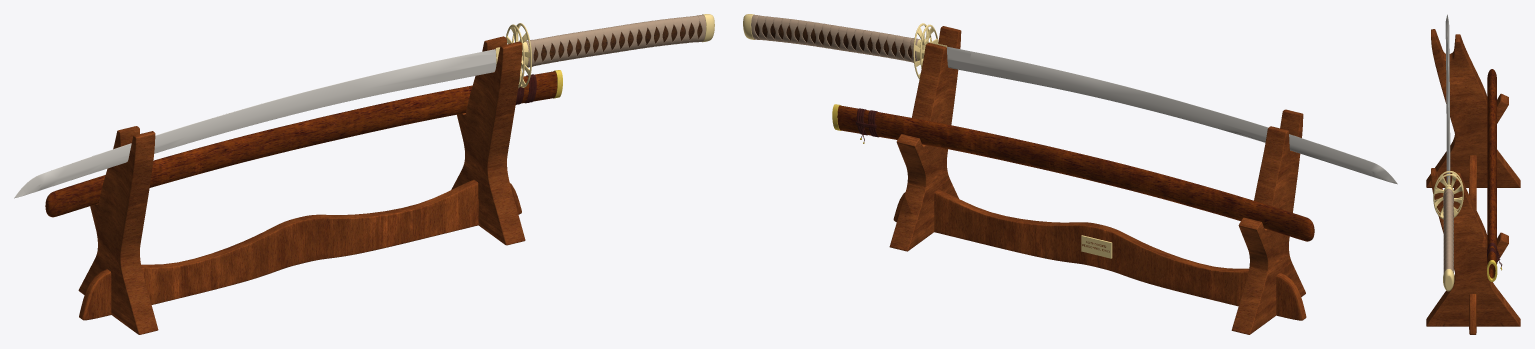
Rendered from katana.glb.
3 renders of one model, left to right at view 1: azimuth 30°, elevation 25°; view 2: azimuth 150°, elevation 25°; view 3: azimuth 270°, elevation 25°, orthographic. The views are drawn at different scales.
Parts seen in each view (by area): view 1: Cube_Side_0, Cube.002_Bottom_0, object 11, object 3, object 7, object 8, object 6; view 2: Cube_Side_0, Cube.002_Bottom_0, object 11, object 3, object 7, object 8, object 6; view 3: Cube_Side_0, object 11, object 7, Cube.002_Bottom_0, object 3, object 6, object 5, object 12, object 13, object 9.
Part boxes in pixels (x1,y1,x2,y2): Cube_Side_0: [78, 36, 525, 334]; Cube.002_Bottom_0: [79, 180, 521, 320]; object 11: [45, 71, 557, 217]; object 3: [14, 49, 496, 198]; object 7: [533, 15, 699, 65]; object 8: [533, 22, 702, 62]; object 6: [505, 23, 531, 88]; Cube_Side_0: [889, 26, 1305, 334]; Cube.002_Bottom_0: [893, 189, 1306, 320]; object 11: [837, 105, 1314, 241]; object 3: [947, 46, 1397, 184]; object 7: [757, 15, 912, 62]; object 8: [755, 22, 911, 58]; object 6: [913, 23, 938, 79]; Cube_Side_0: [1426, 29, 1520, 326]; object 11: [1487, 69, 1496, 278]; object 7: [1443, 192, 1453, 273]; Cube.002_Bottom_0: [1469, 155, 1476, 334]; object 3: [1445, 14, 1450, 183]; object 6: [1433, 171, 1463, 219]; object 5: [1443, 269, 1454, 291]; object 12: [1487, 242, 1502, 270]; object 13: [1487, 260, 1497, 281]; object 9: [1443, 188, 1453, 273].
Size of the model in its own units: 8.69 by 2.42 by 1.31.
Materials: 13 (8 with a texture image).
